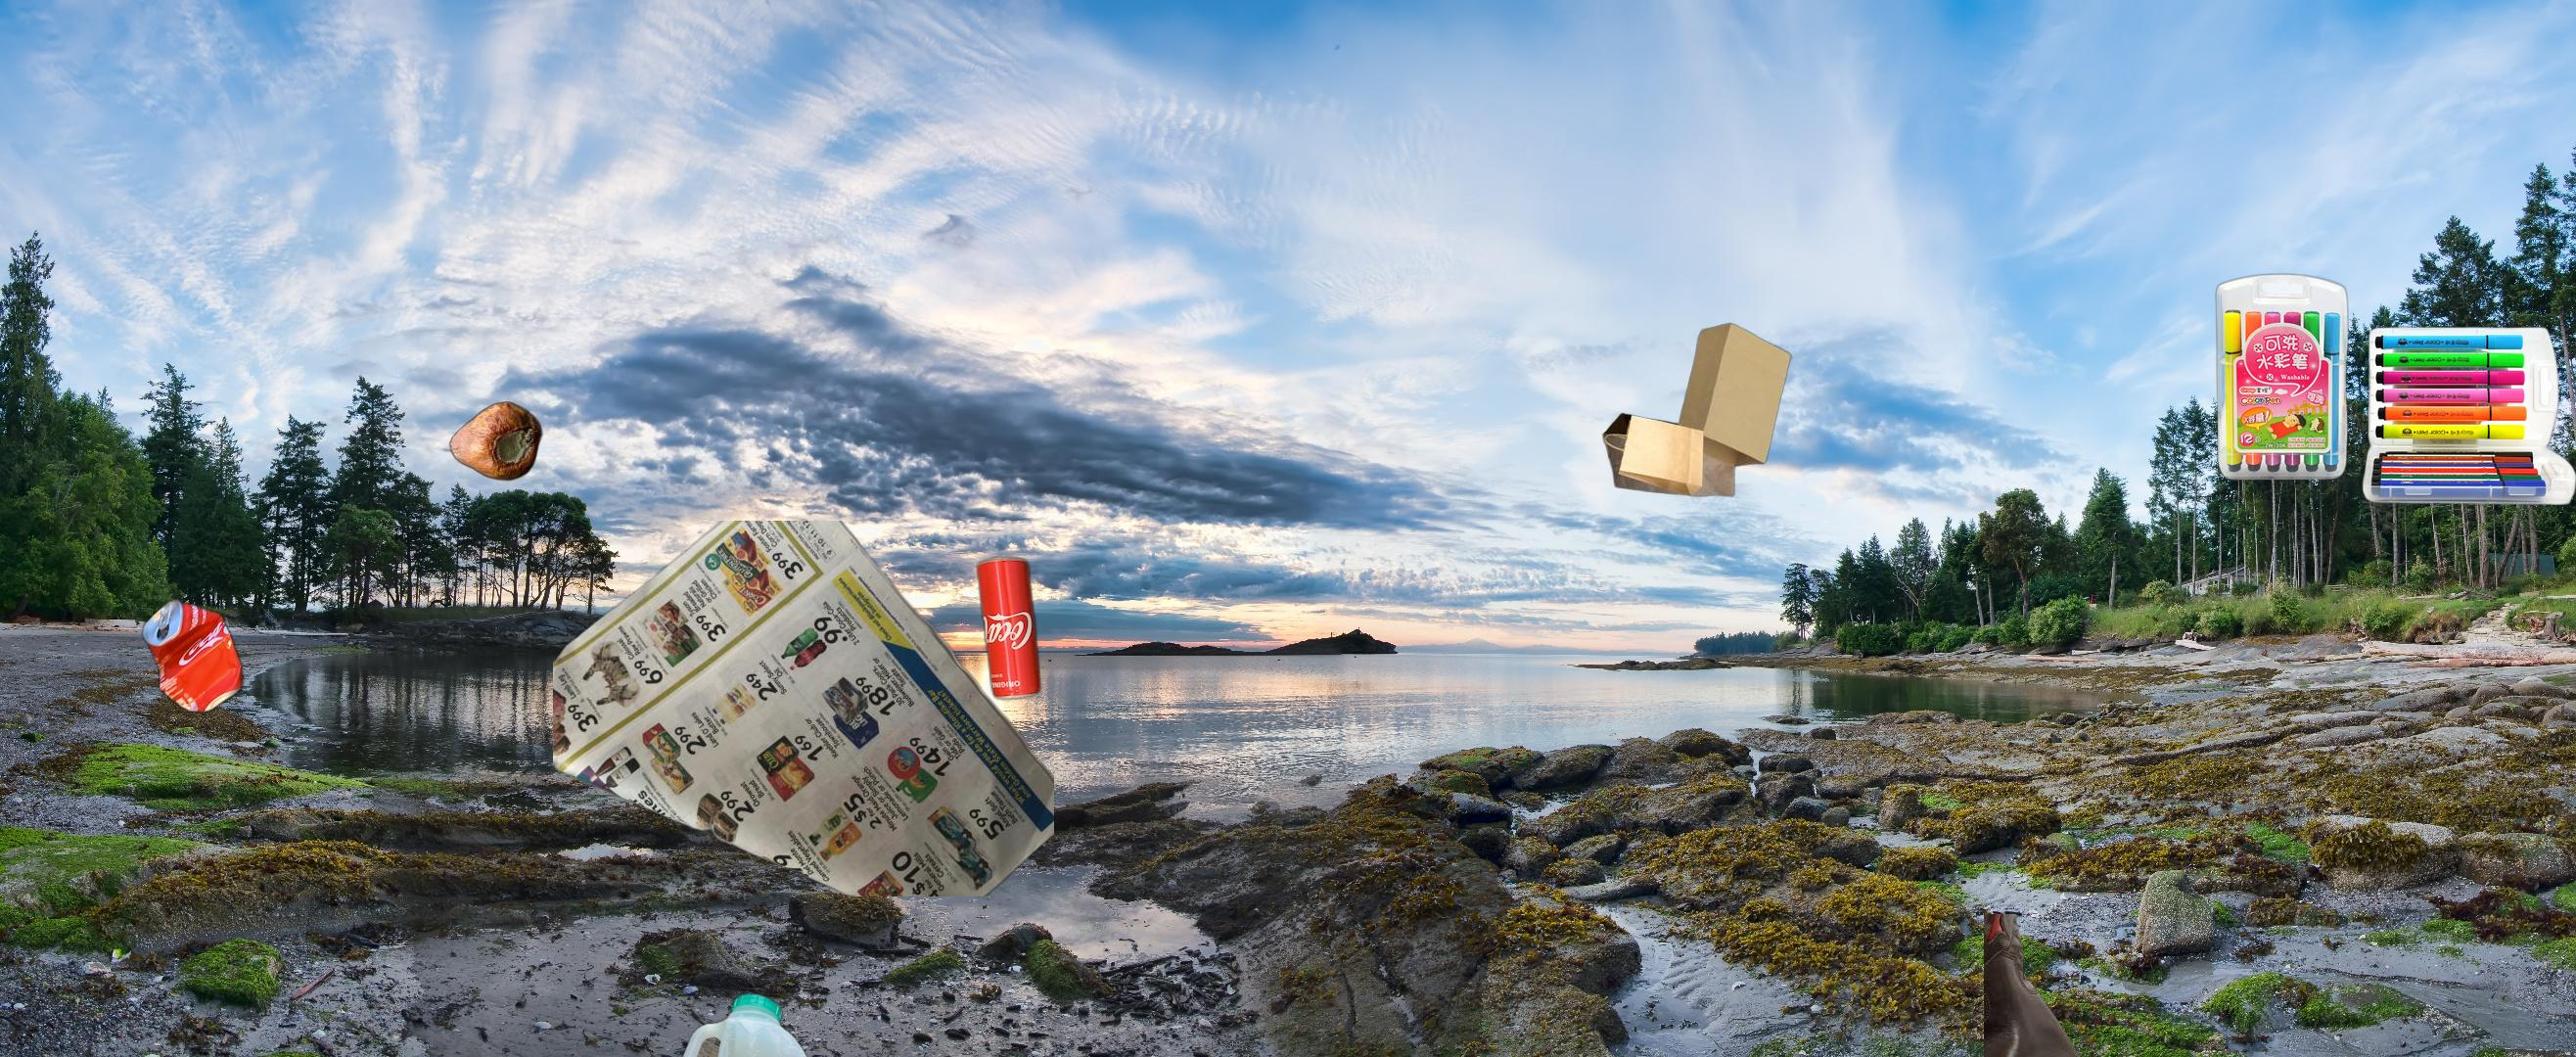biological: (422, 399, 545, 483)
metal-cans: (140, 592, 248, 718), (973, 551, 1045, 705)
paper: (554, 521, 1055, 896)
paper-bag: (1600, 321, 1796, 500)
penholder: (2211, 271, 2576, 510)
plastic-bottles: (660, 988, 823, 1057)
shoes: (1985, 914, 2162, 1057)
